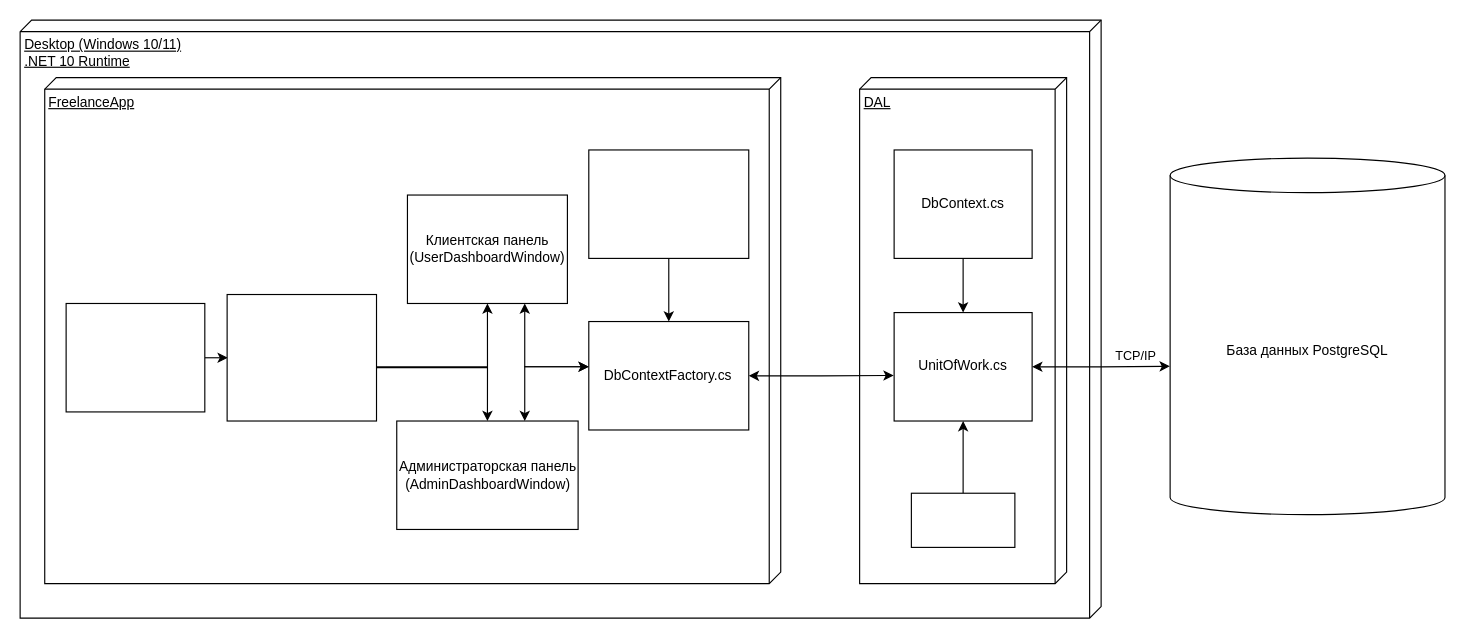
This 1465x638 diagram has some shape labels left out. Here are the shapes that lost their labels. From the top down, the centre of each, then its label:
point 668,203: appsettings.json (ConnectionStrings)
point 135,357: Начальная страница (StartupWindow)
point 301,357: Регистрация/ Аутентификация (RegistrationWindow/AuthenticationWindow)
point 962,519: Repositories
